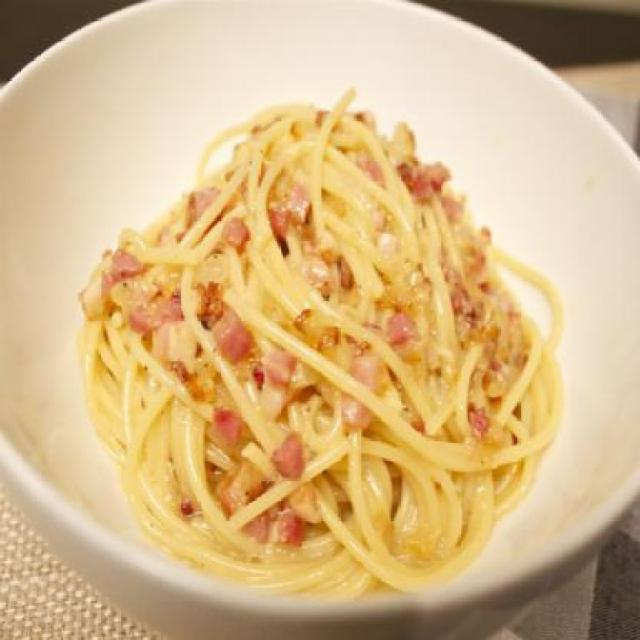Pasta with carbonara sauce: (43, 50, 606, 613)
